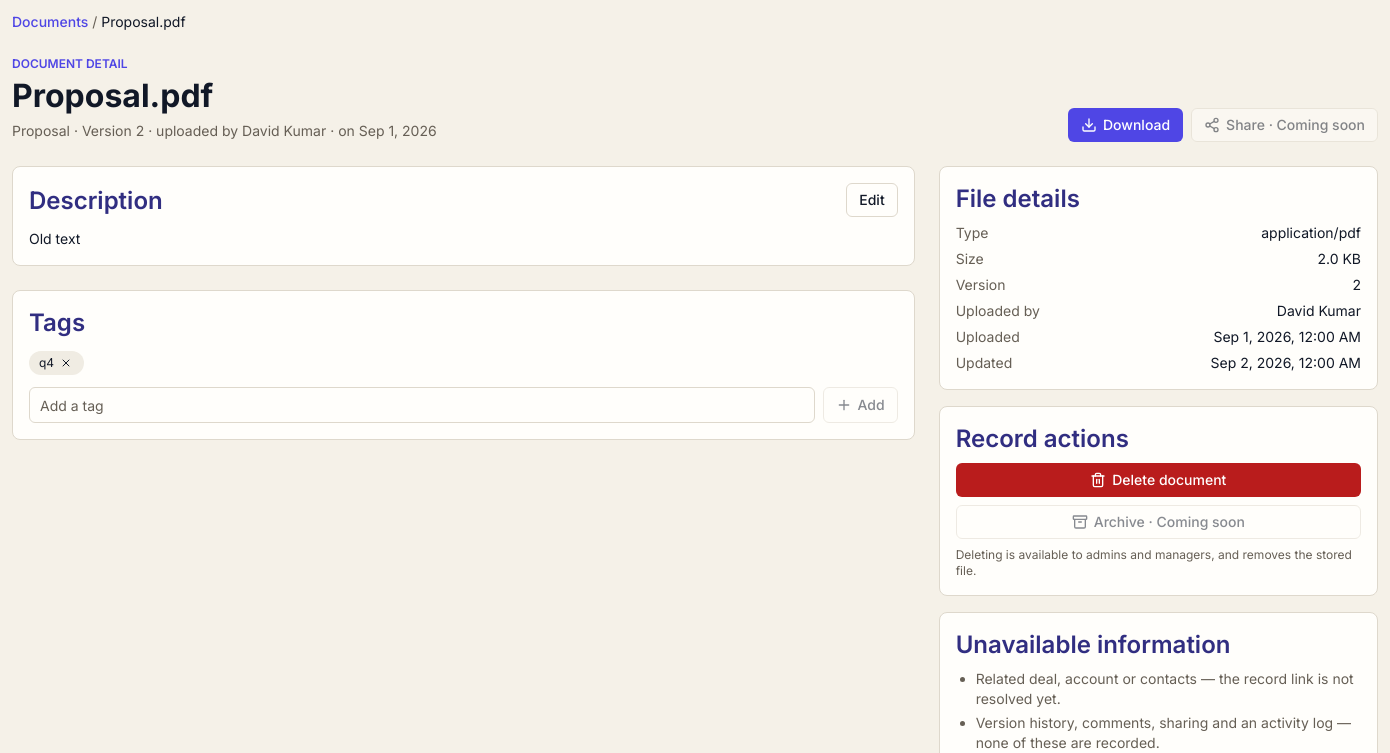
Document detail — real saves, nothing local-only › the description saves through the API and the page shows the RELOADED row
Click the button "Edit".
click(872, 200)  # box [846,183,898,217]
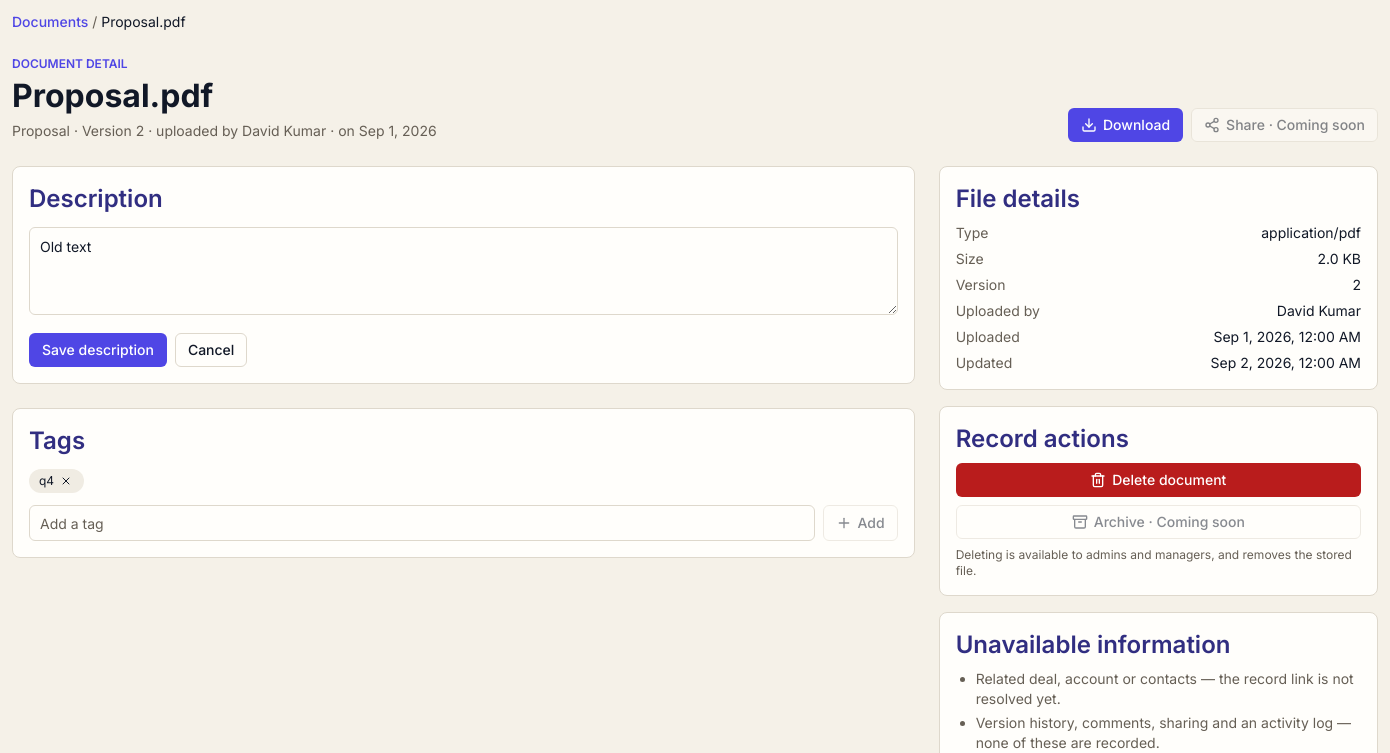
Replace the text in the text box named "Description" with "Signed copy" at (463, 271), box [29,227,898,315]
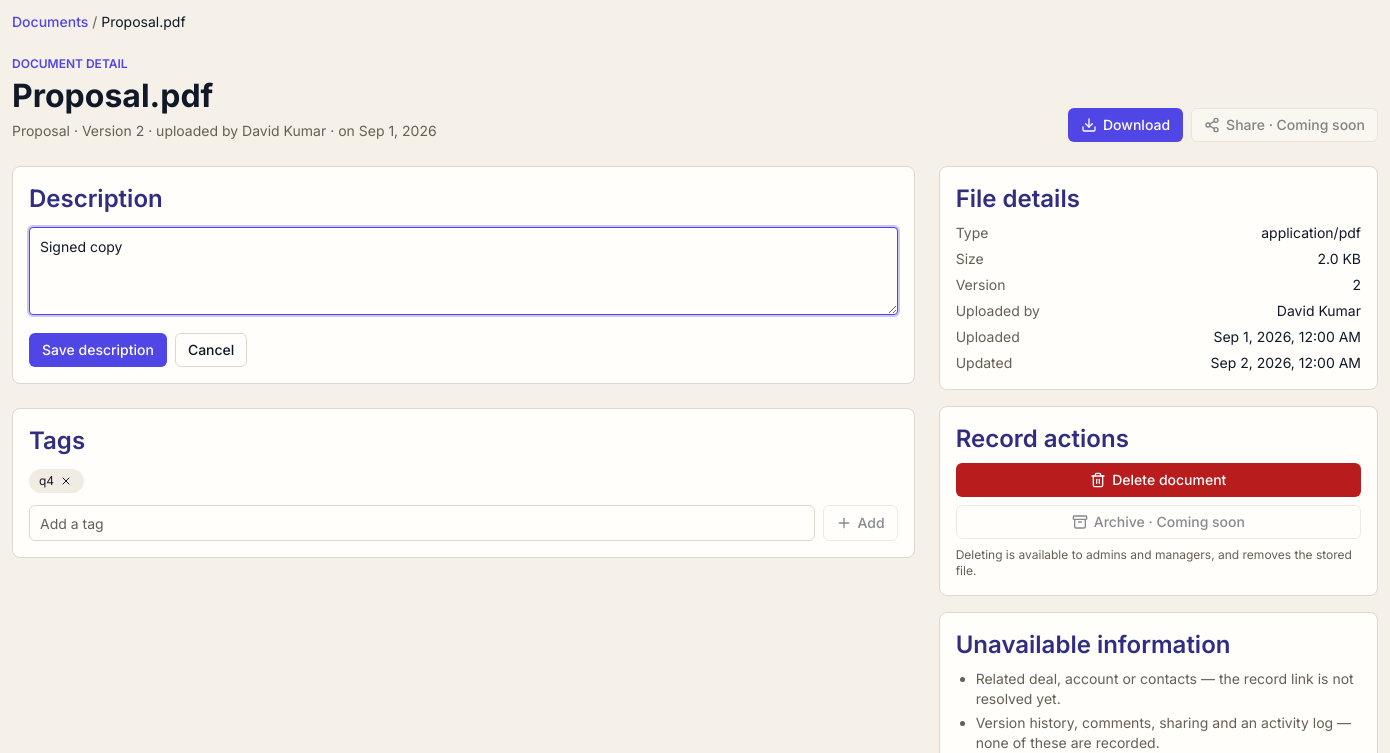
Click the button "Save description".
click(98, 350)  # box [29,333,167,367]
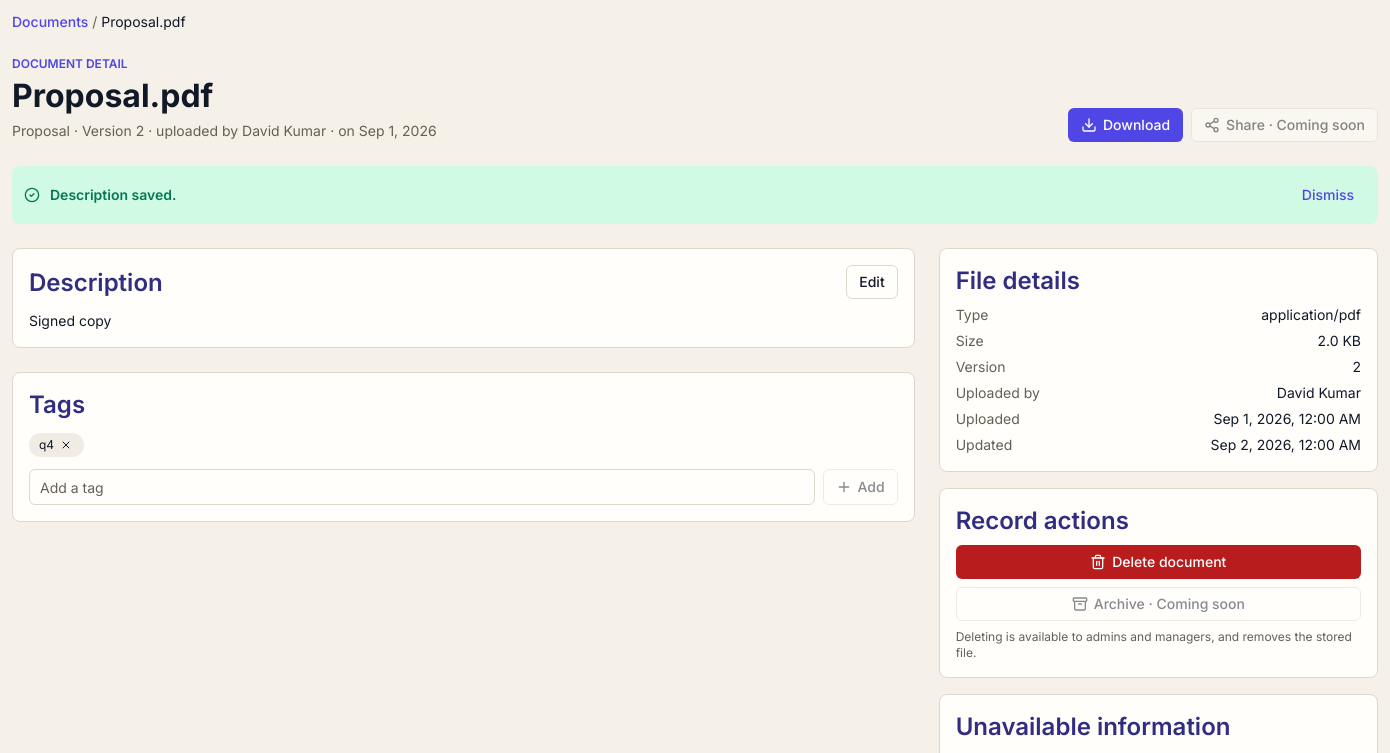
Now the text "Description saved." is shown, box [50,186,176,203]
Now the text with test id "doc-description" reads "Signed copy", box [29,312,112,329]
